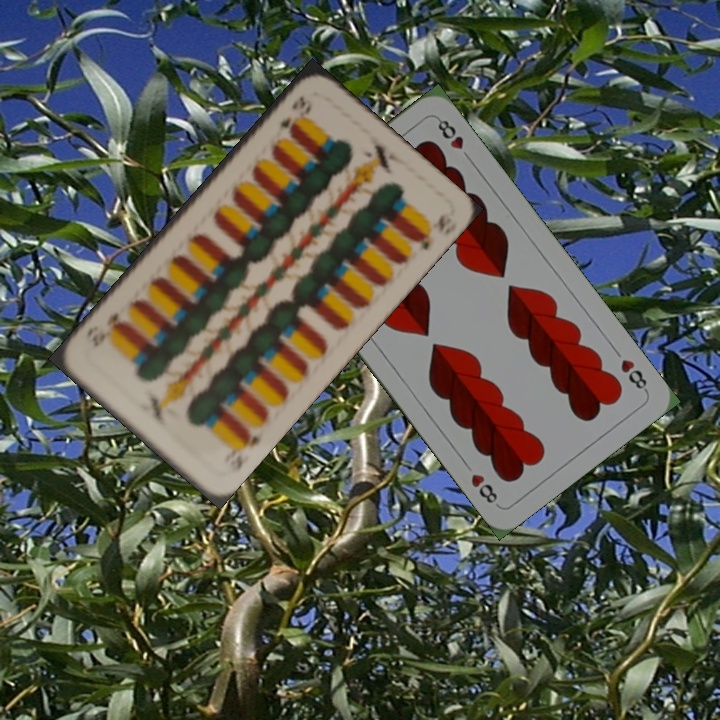E10: (222, 423, 264, 477), (271, 91, 315, 138)
H8: (616, 355, 651, 395)
